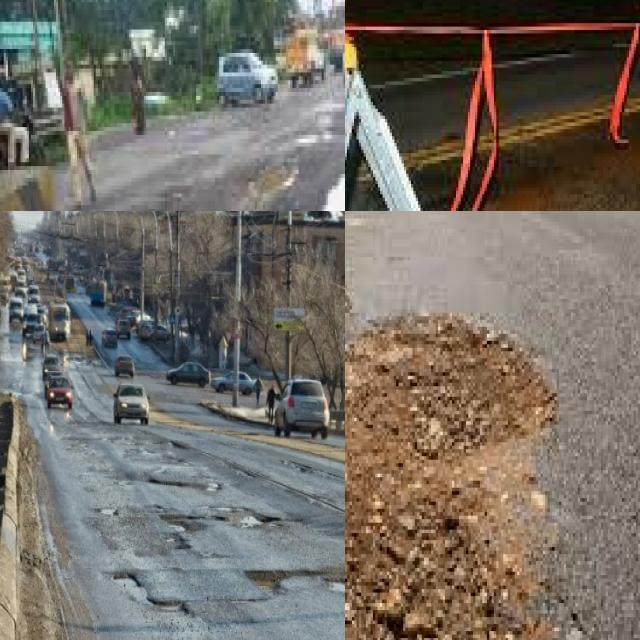Pothole: (345, 309, 566, 640), (345, 313, 565, 640), (113, 574, 187, 614), (248, 166, 297, 201), (228, 507, 279, 528), (246, 571, 286, 589), (163, 516, 193, 531), (95, 507, 117, 516), (332, 578, 345, 588)
